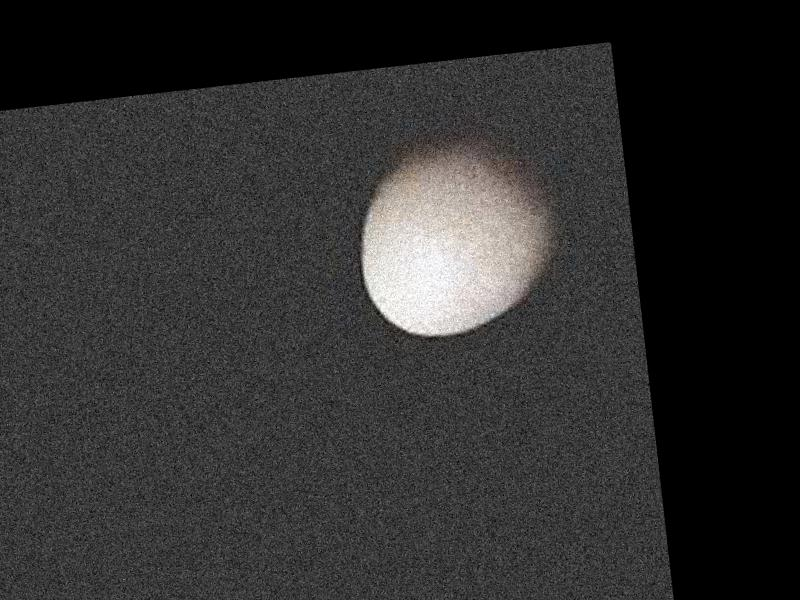Eggs: (349, 125, 574, 345)
